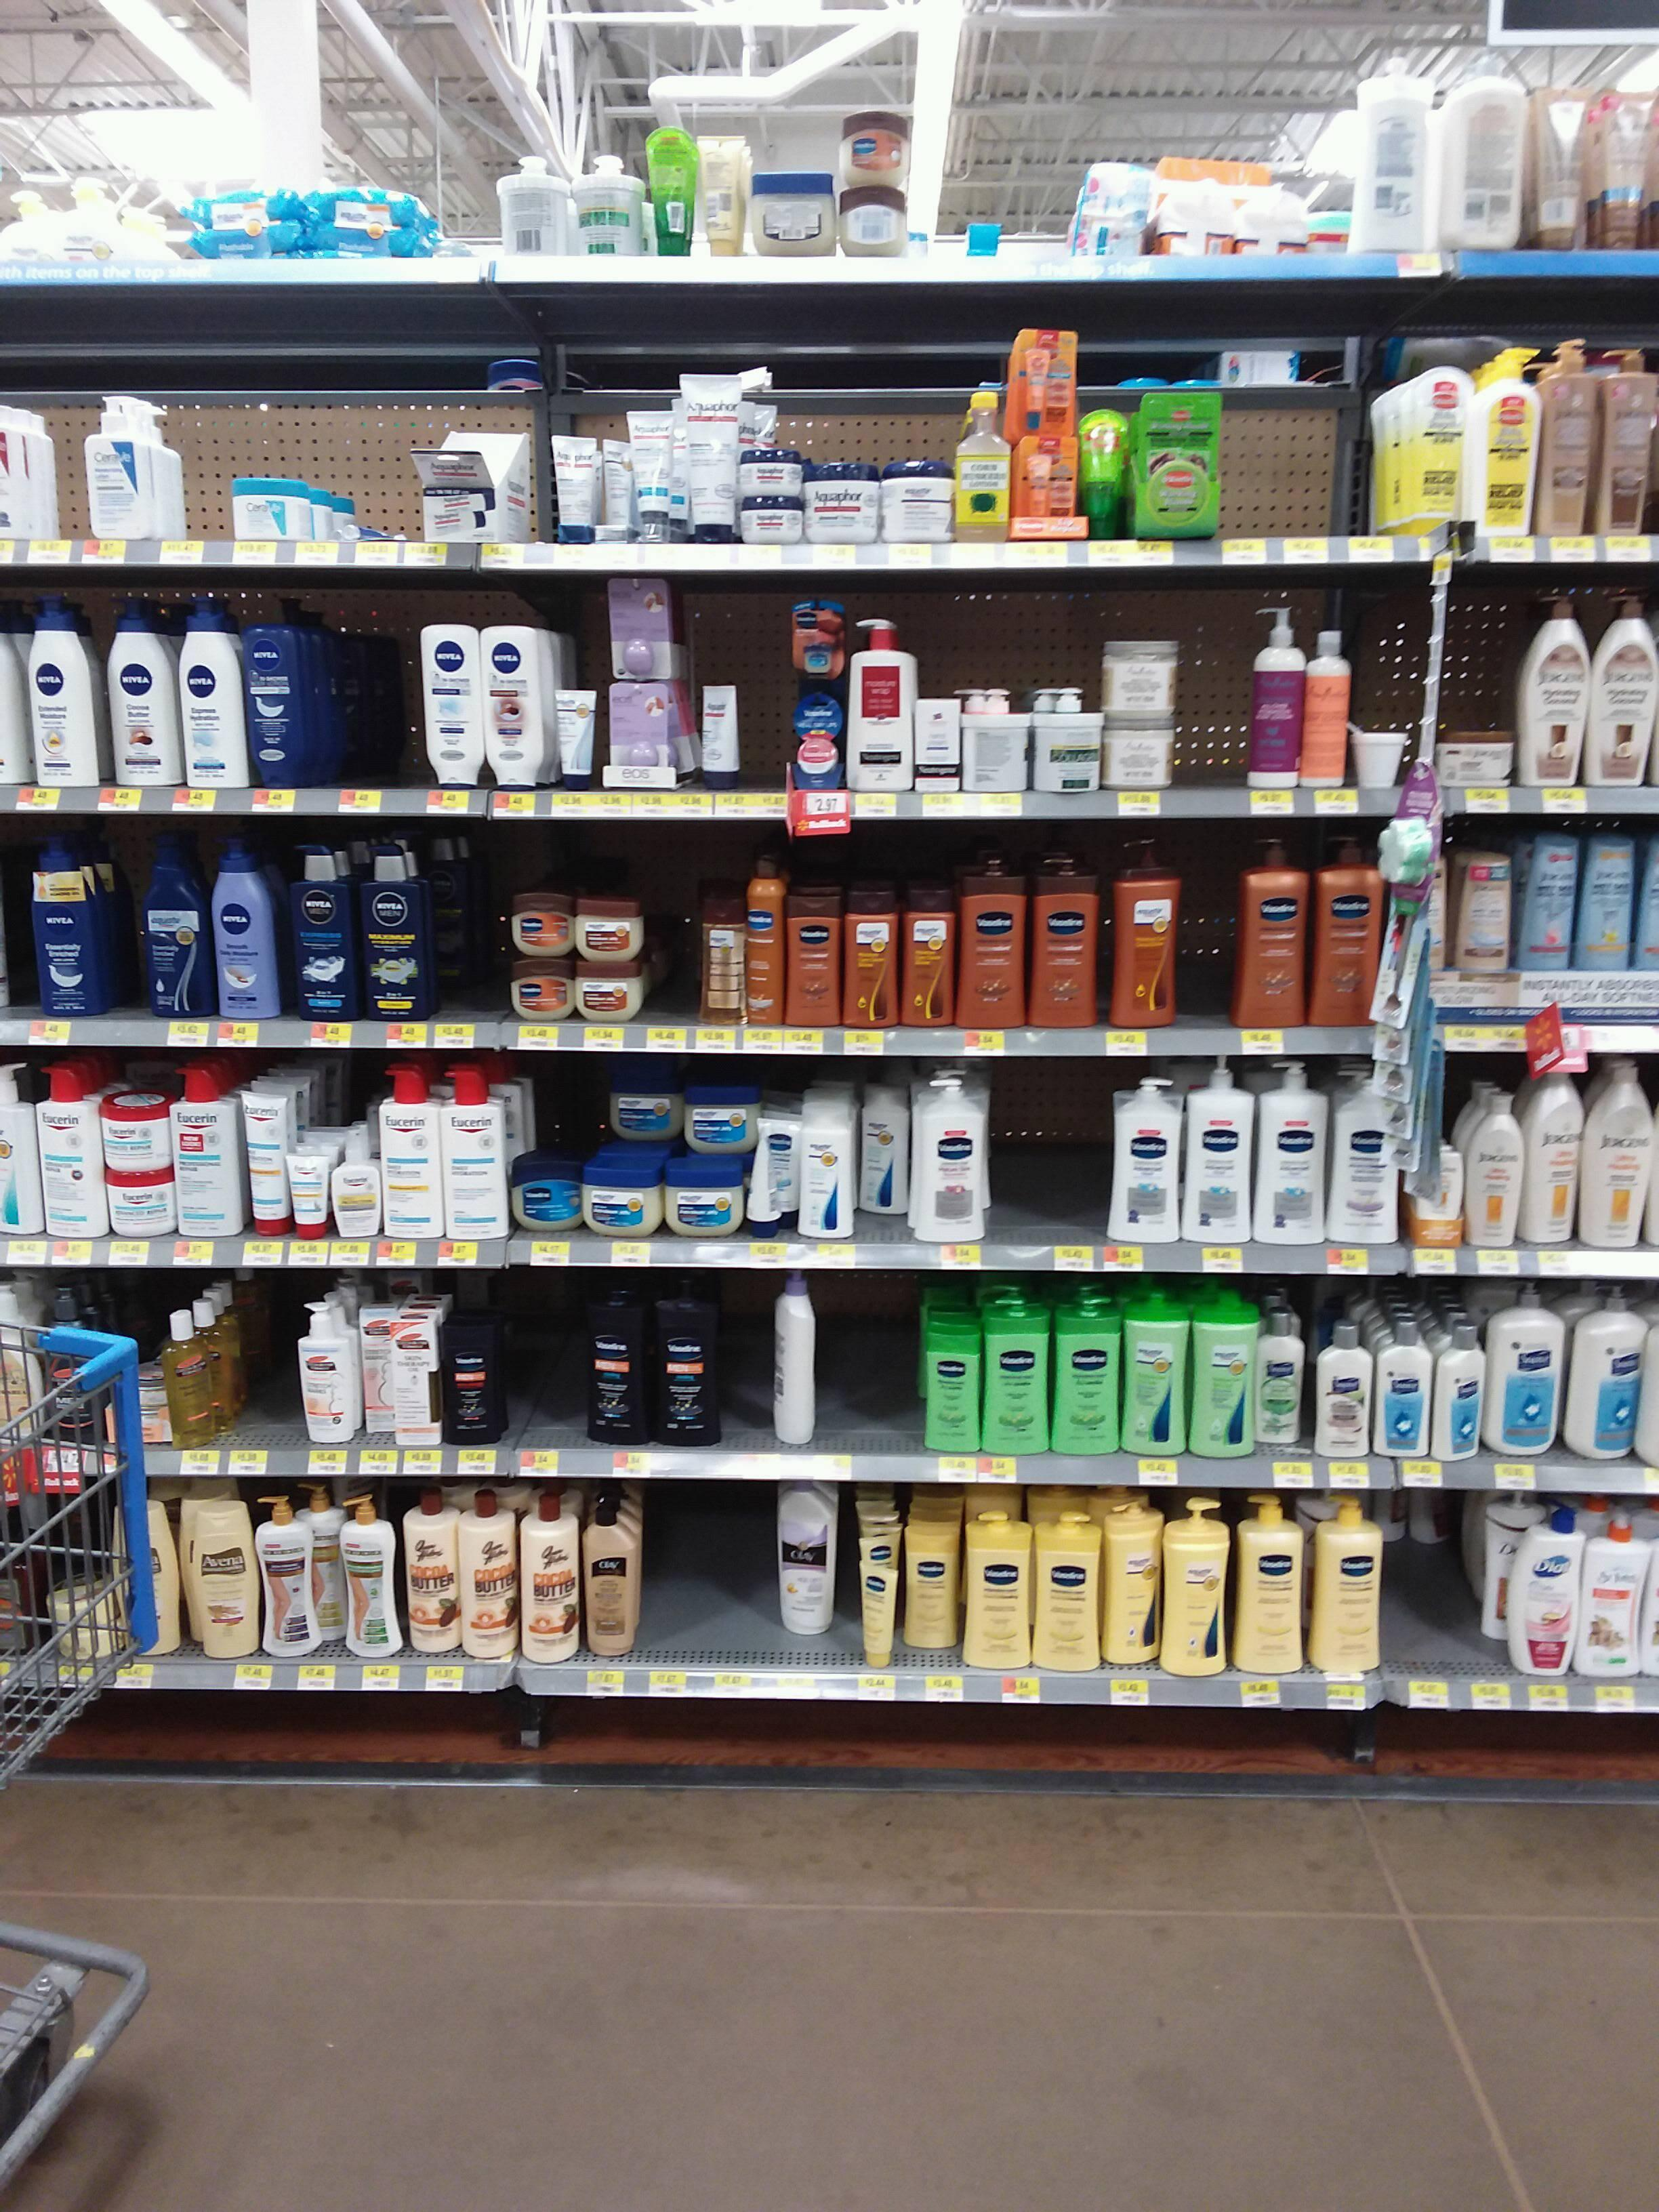empty: (659, 1491, 767, 1651), (1230, 374, 1331, 533), (1002, 1069, 1098, 1235), (835, 1280, 906, 1433), (350, 606, 415, 773), (1190, 620, 1243, 794), (516, 1278, 577, 1423), (457, 841, 507, 1015), (650, 848, 697, 1022), (720, 1289, 763, 1447), (185, 406, 227, 547), (260, 1278, 295, 1439)
misalignment: (258, 1482, 392, 1660), (1378, 1500, 1450, 1554), (335, 523, 413, 550)
